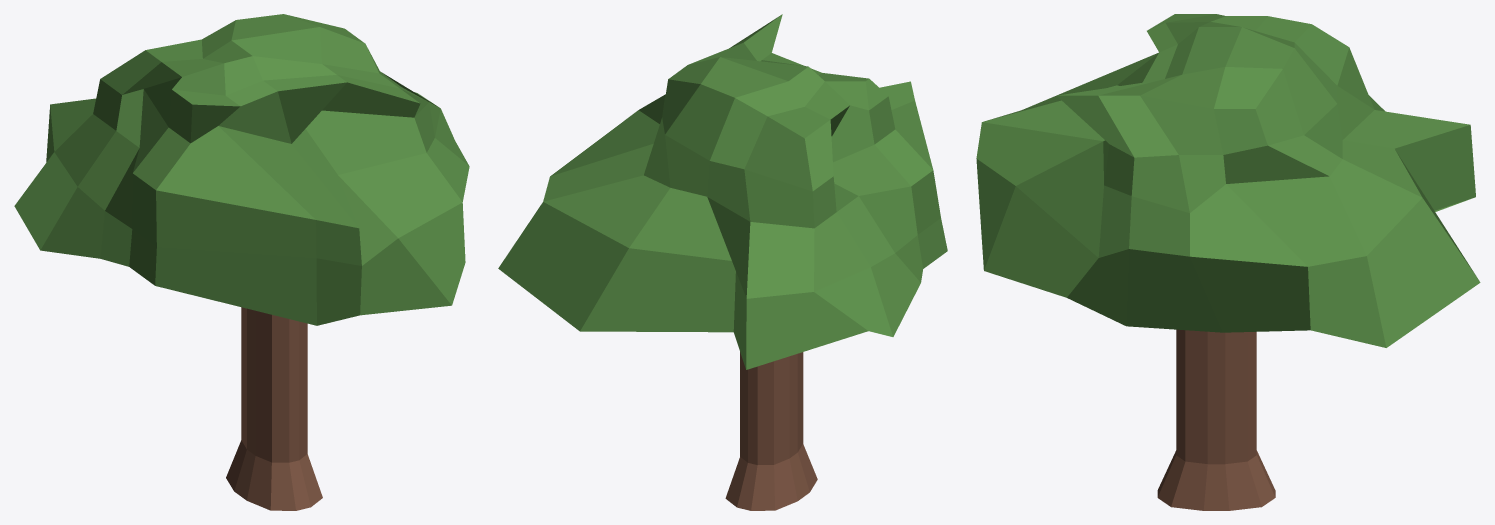
Rendered from TreeWide.fbx.
3 renders of one model, left to right at view 1: azimuth 30°, elevation 25°; view 2: azimuth 150°, elevation 25°; view 3: azimuth 270°, elevation 25°, orthographic. The views are drawn at different scales.
Parts seen in each view (by area): view 1: wideTree; view 2: wideTree; view 3: wideTree.
Boxes of the visible parts, x1,y1,x2,y2 form: wideTree: (14,14,469,510); wideTree: (498,14,947,510); wideTree: (976,14,1480,510).
Size of the model in its own units: 4176 by 4617 by 4667.
